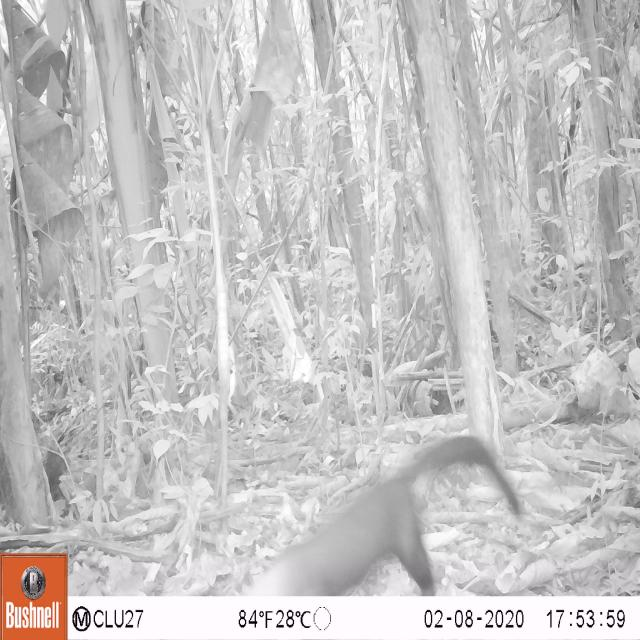Tayra: (274, 423, 534, 600)
